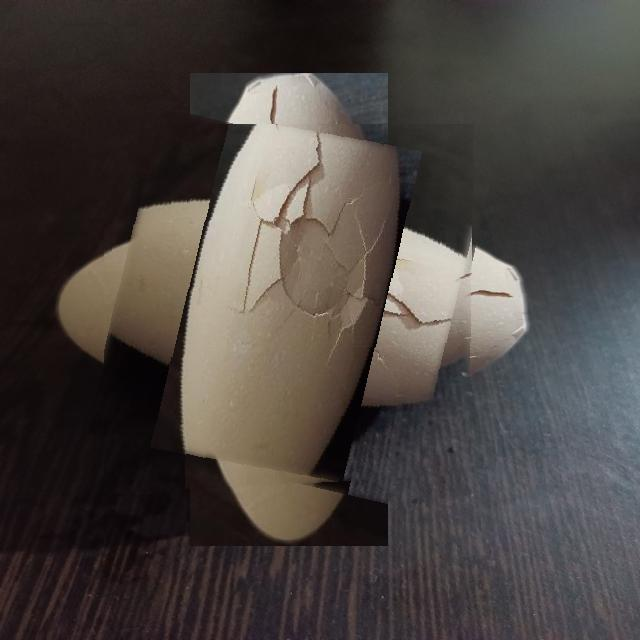biodegradable: (104, 124, 474, 494)
